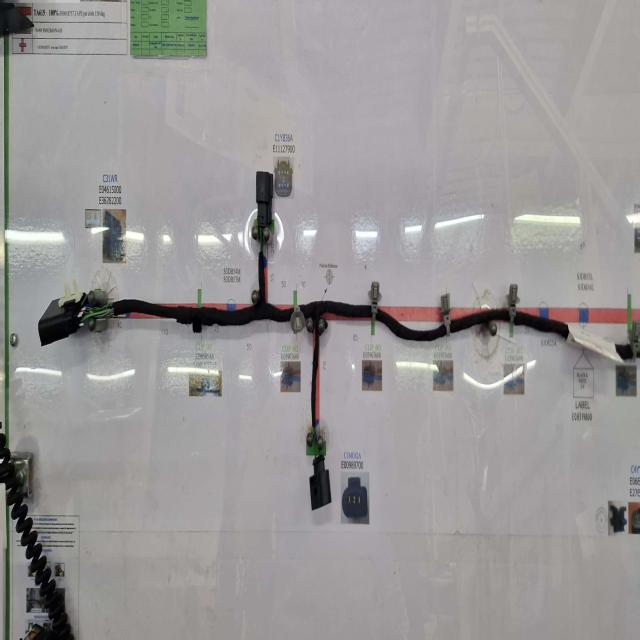Clip: (289, 295, 305, 339), (368, 287, 380, 339), (626, 325, 640, 363), (506, 289, 518, 328), (191, 295, 201, 339), (440, 298, 449, 341)
Connector: (38, 306, 79, 352), (309, 459, 330, 516), (255, 177, 271, 232)
Gape: (80, 297, 114, 325)
Info: (566, 330, 621, 369)
MHEV_N11_Cable: (111, 268, 292, 333), (300, 303, 371, 434), (375, 314, 445, 347), (514, 317, 572, 347), (449, 311, 511, 339)
